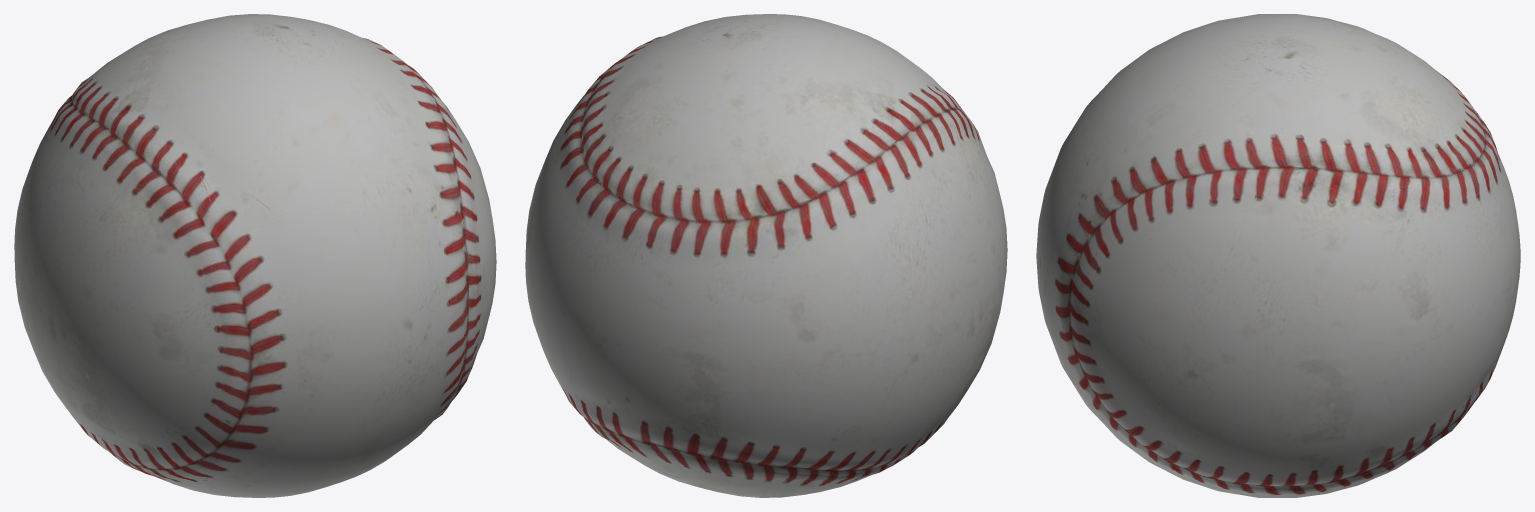
File: ball_1a7346e0_visual.obj
3 views of the same model, side by side, from view 1: azimuth 30°, elevation 25°; view 2: azimuth 150°, elevation 25°; view 3: azimuth 270°, elevation 25° (orthographic).
Bounding box in the file's own units: 0.0685 × 0.07 × 0.0698.
1 material, 1 textured.
